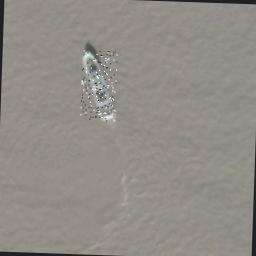boat: (80, 50, 118, 122)
